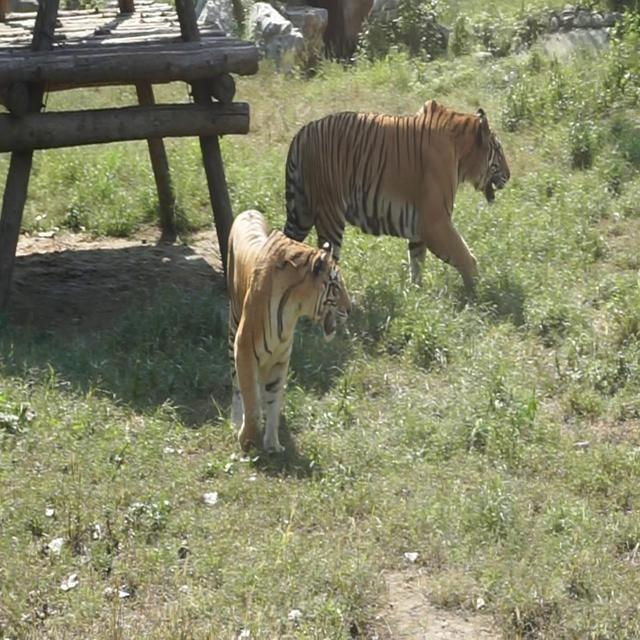tiger: (281, 97, 510, 297), (225, 207, 352, 456)
